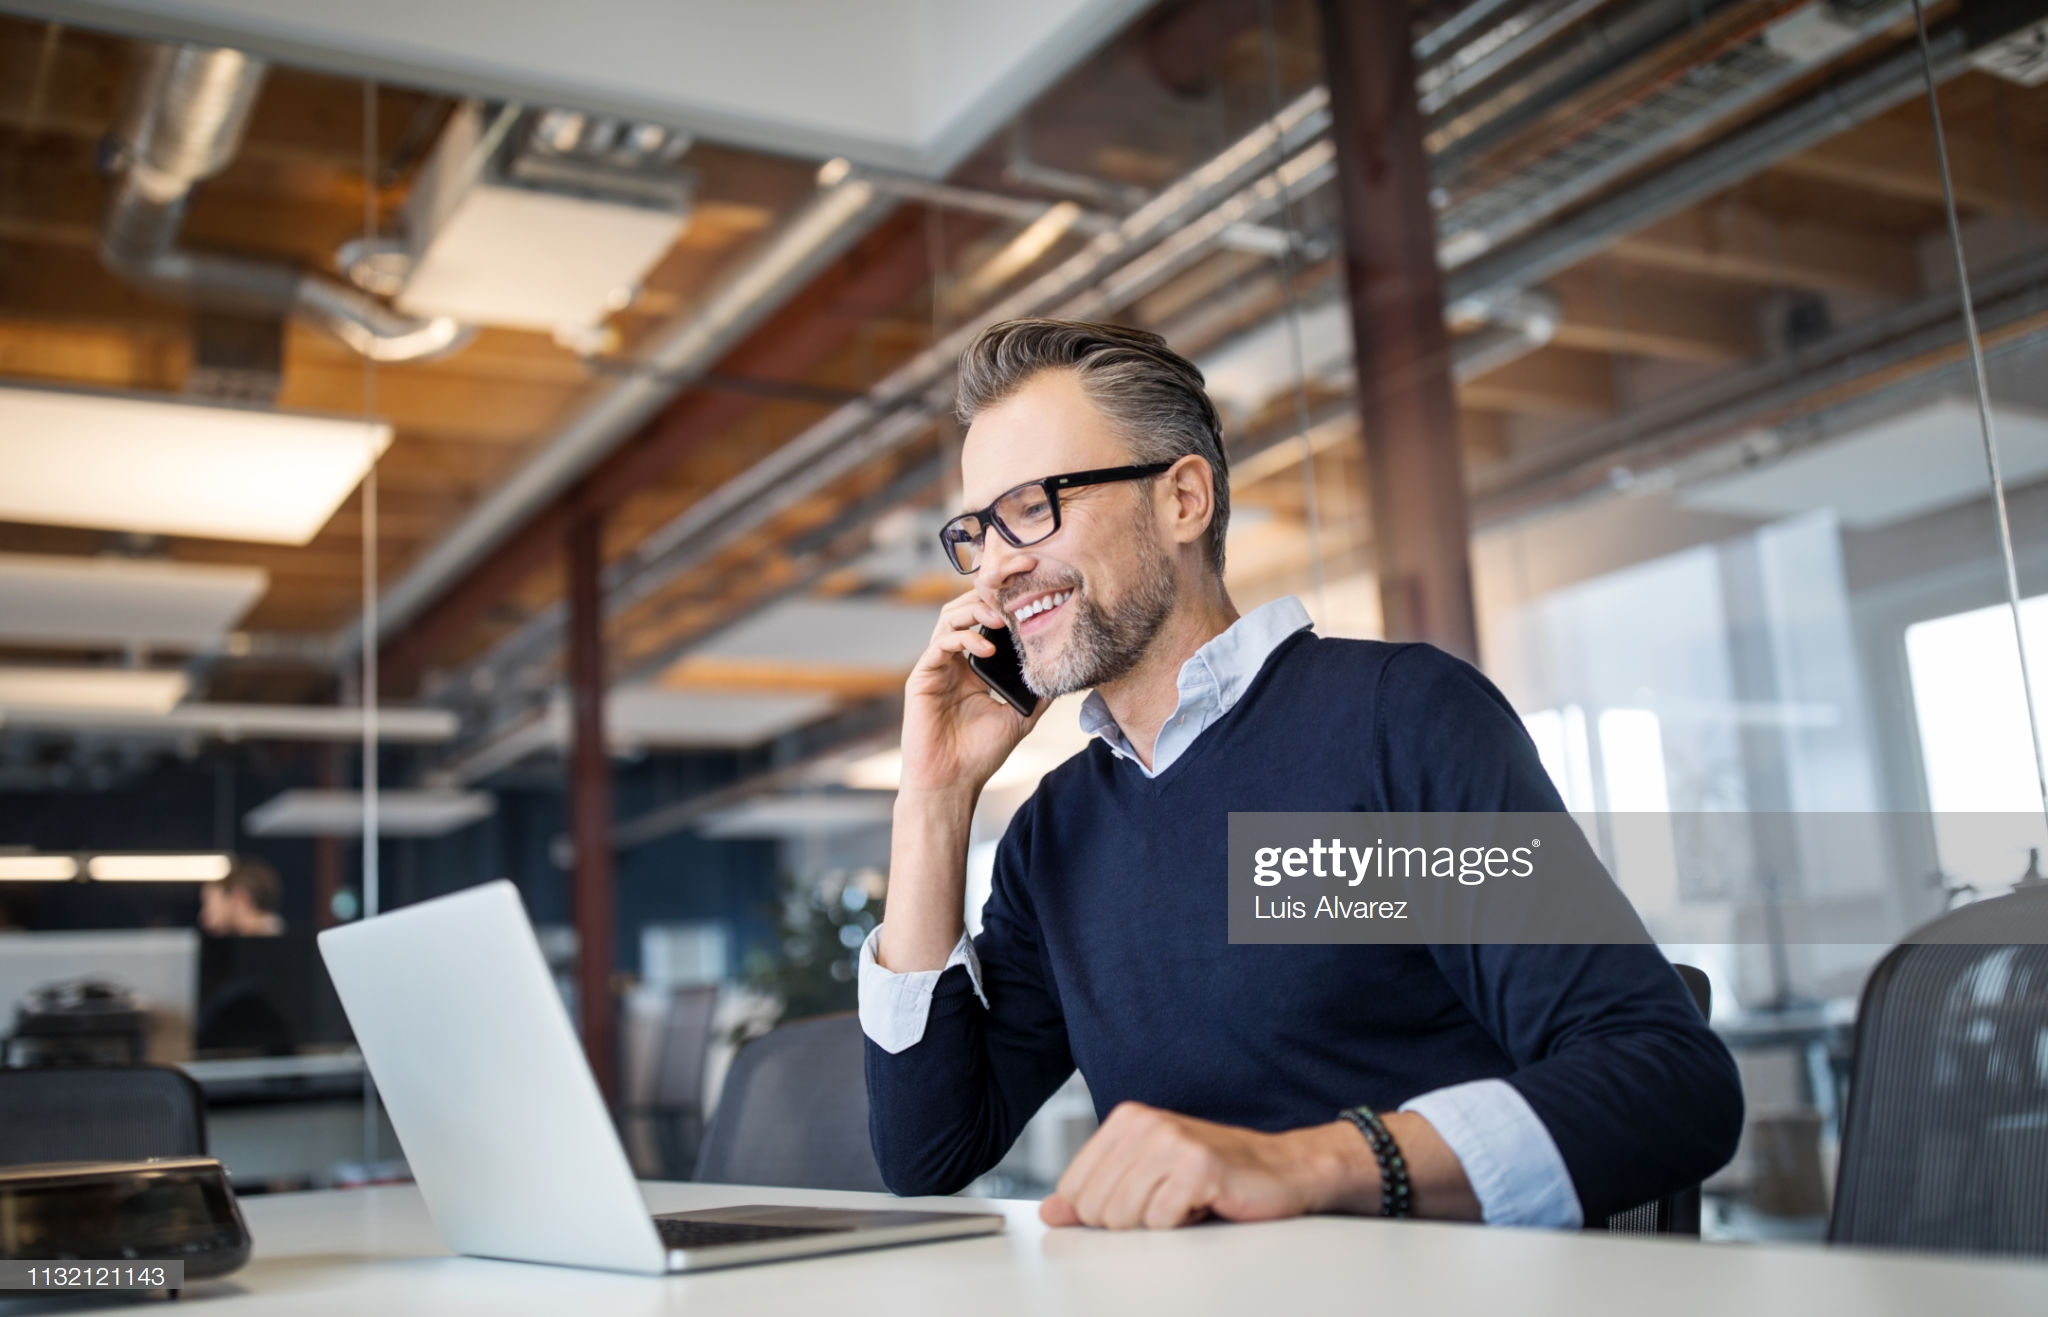phone: (920, 570, 1037, 768)
talk: (893, 463, 1115, 790)
